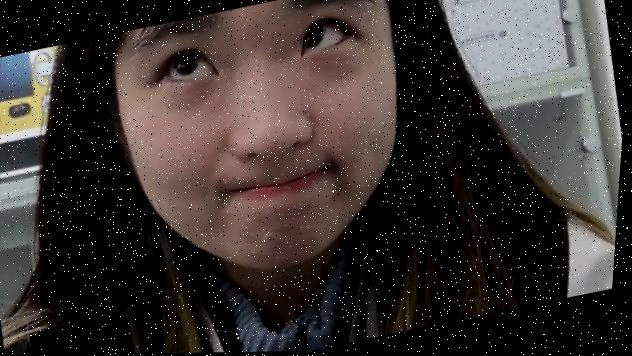eye: (176, 54, 199, 74), (304, 28, 326, 46)
iris: (156, 48, 218, 87), (297, 19, 353, 57)
